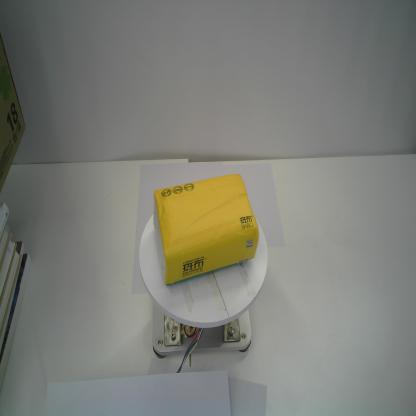Tissue: (152, 173, 260, 285)
